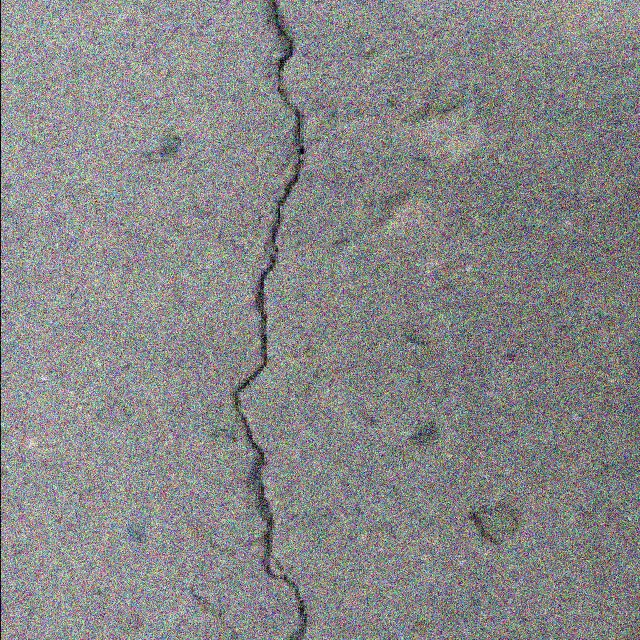SurfaceCrack: (206, 0, 330, 640)
